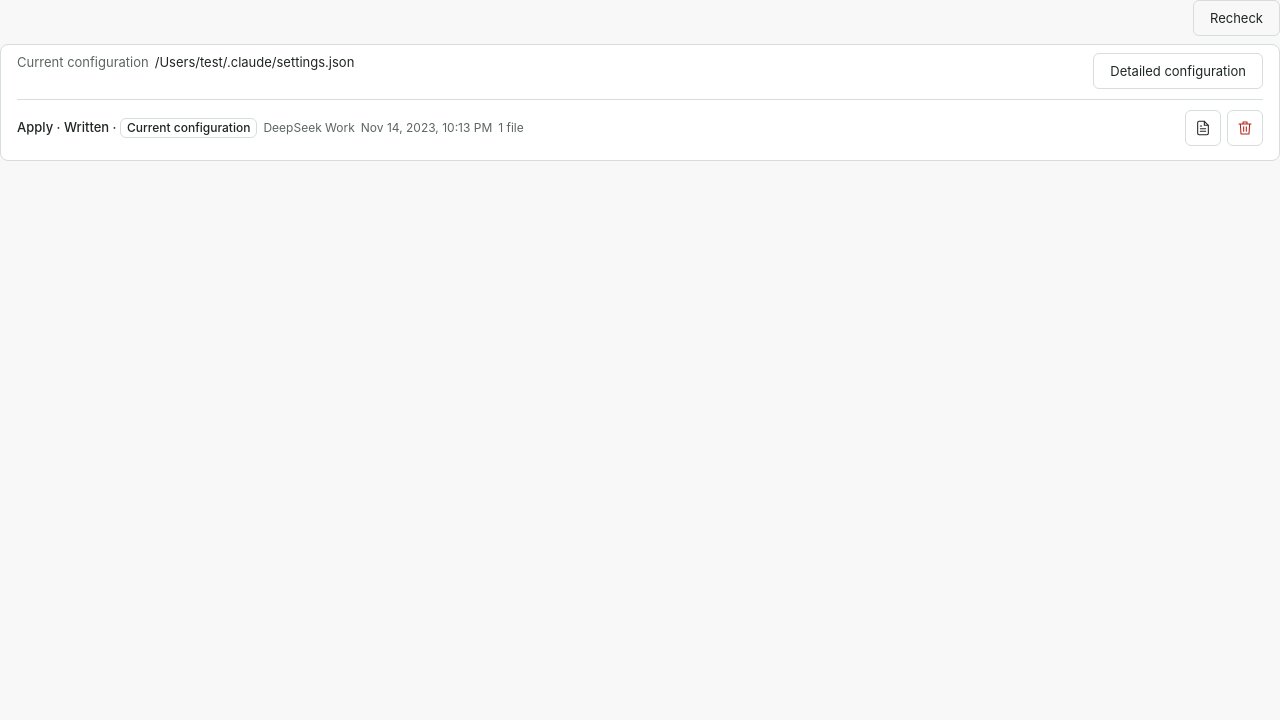
Test: the current written version does not offer a redundant restore
The image size is (1280, 720).
Step 1. Click the button named "Show details" → (1203, 128), box [1185,110,1221,146]
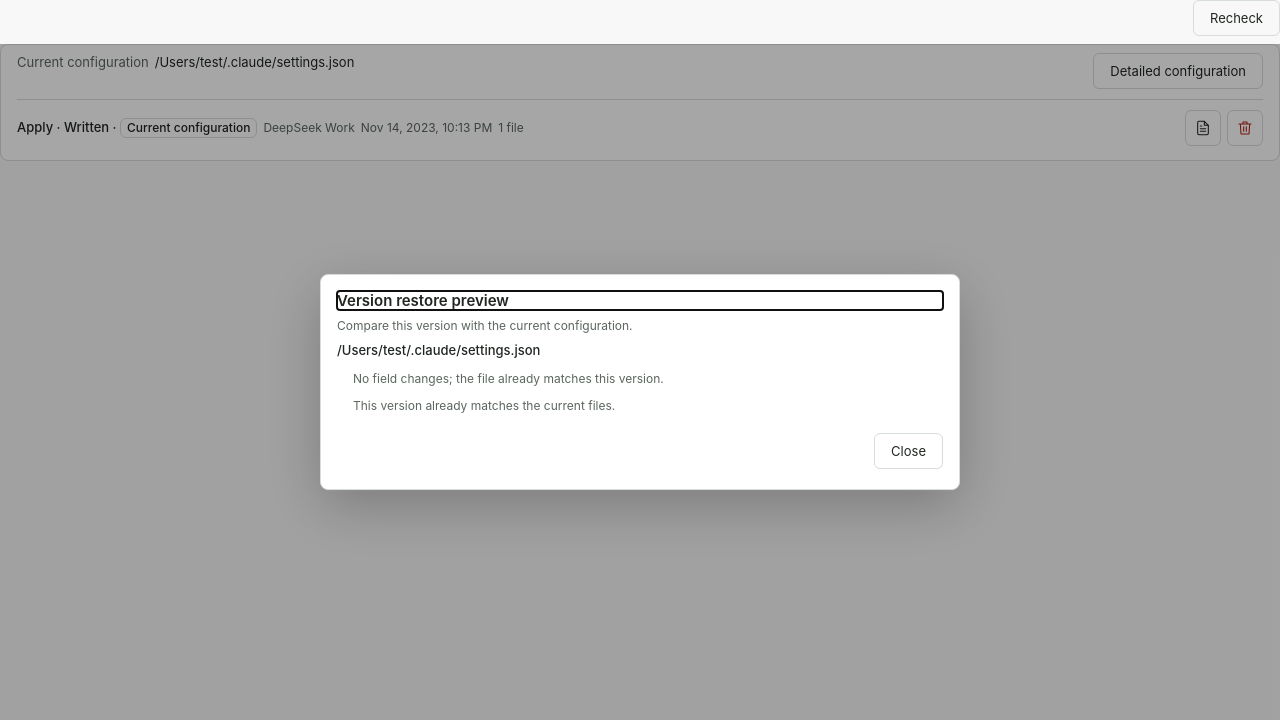
expect the element named "Version restore preview" is shown: met, box [337,341,943,473]
expect the text "This version already matches the current files." is shown: met, box [353,398,615,413]
